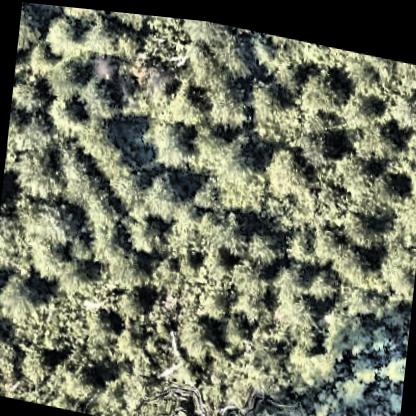tree-top: (15, 190, 80, 250), (258, 133, 316, 198), (8, 140, 66, 201), (154, 72, 214, 128), (200, 66, 255, 126), (137, 108, 194, 165), (293, 53, 346, 114), (53, 149, 108, 205), (169, 301, 222, 359), (71, 107, 123, 162), (232, 217, 278, 279), (0, 265, 45, 328), (210, 124, 260, 180), (24, 226, 74, 279), (38, 5, 86, 60), (329, 228, 374, 285), (74, 69, 122, 122), (48, 353, 99, 402), (206, 20, 254, 72), (117, 203, 164, 256), (272, 275, 319, 325), (38, 51, 84, 102), (140, 164, 185, 216), (100, 152, 146, 200), (226, 246, 268, 295), (346, 110, 390, 156), (338, 194, 380, 240), (108, 241, 150, 287), (9, 66, 50, 113), (14, 338, 53, 387), (84, 297, 124, 343), (340, 77, 380, 122), (244, 219, 284, 262), (368, 156, 407, 198), (88, 219, 128, 256), (86, 13, 122, 54), (110, 278, 146, 318), (347, 341, 382, 381), (384, 75, 416, 118), (195, 280, 230, 318), (283, 221, 316, 258), (307, 260, 339, 297), (198, 233, 229, 271), (16, 1, 40, 49), (0, 331, 22, 376), (53, 4, 100, 19), (106, 9, 150, 25)
